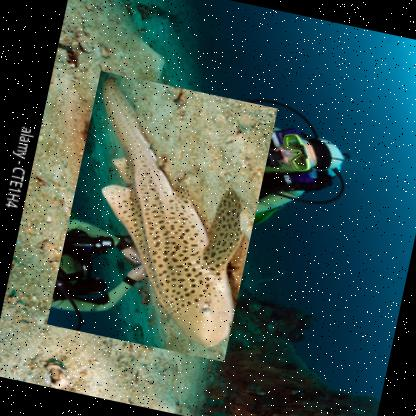zebra_shark: (44, 70, 276, 362)
